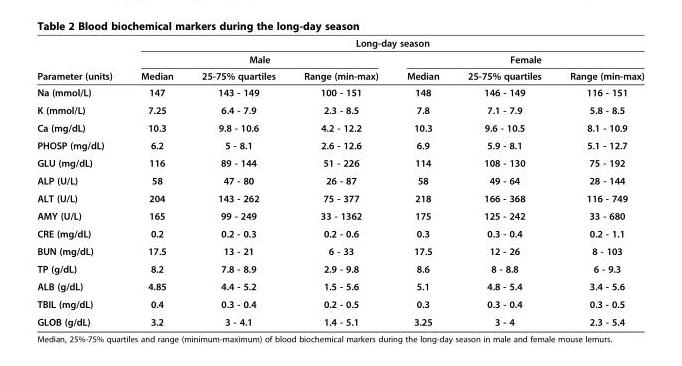table: (36, 36, 643, 327)
table column: (186, 36, 289, 327), (452, 36, 555, 327), (289, 36, 391, 327), (36, 36, 125, 327), (555, 36, 643, 327), (125, 36, 186, 327), (391, 36, 452, 327)
table column header: (36, 36, 643, 83)
table row: (36, 100, 643, 118), (36, 118, 643, 136), (36, 153, 643, 171), (36, 171, 643, 189), (36, 206, 643, 224), (36, 224, 643, 242), (36, 259, 643, 277), (36, 294, 643, 312), (36, 50, 643, 67), (36, 83, 643, 100), (36, 136, 643, 153), (36, 189, 643, 206), (36, 242, 643, 259), (36, 277, 643, 294), (36, 67, 643, 83), (36, 312, 643, 327), (36, 36, 643, 50)
table spanning cell: (125, 36, 643, 50), (125, 50, 391, 67), (391, 50, 643, 67), (36, 36, 125, 83)
